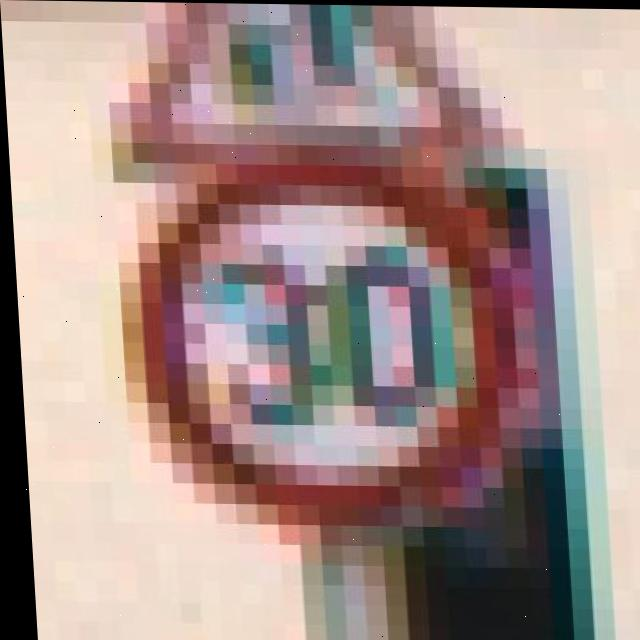Speed limit 30: (108, 153, 564, 541)
